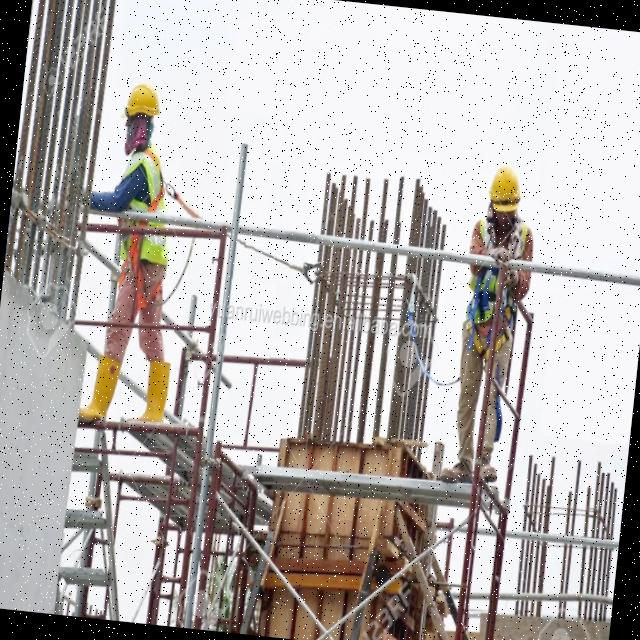Helmet: (489, 166, 525, 220), (121, 83, 163, 126)
Jacket: (120, 151, 169, 269)
